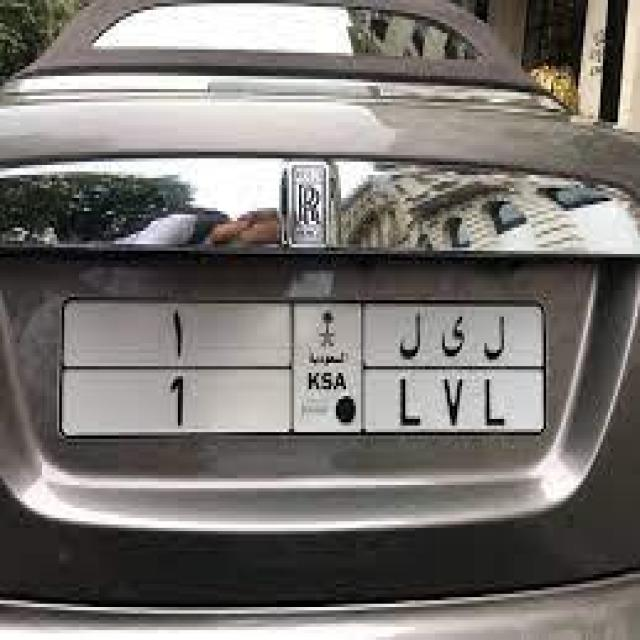license_plate: (55, 287, 551, 442)
